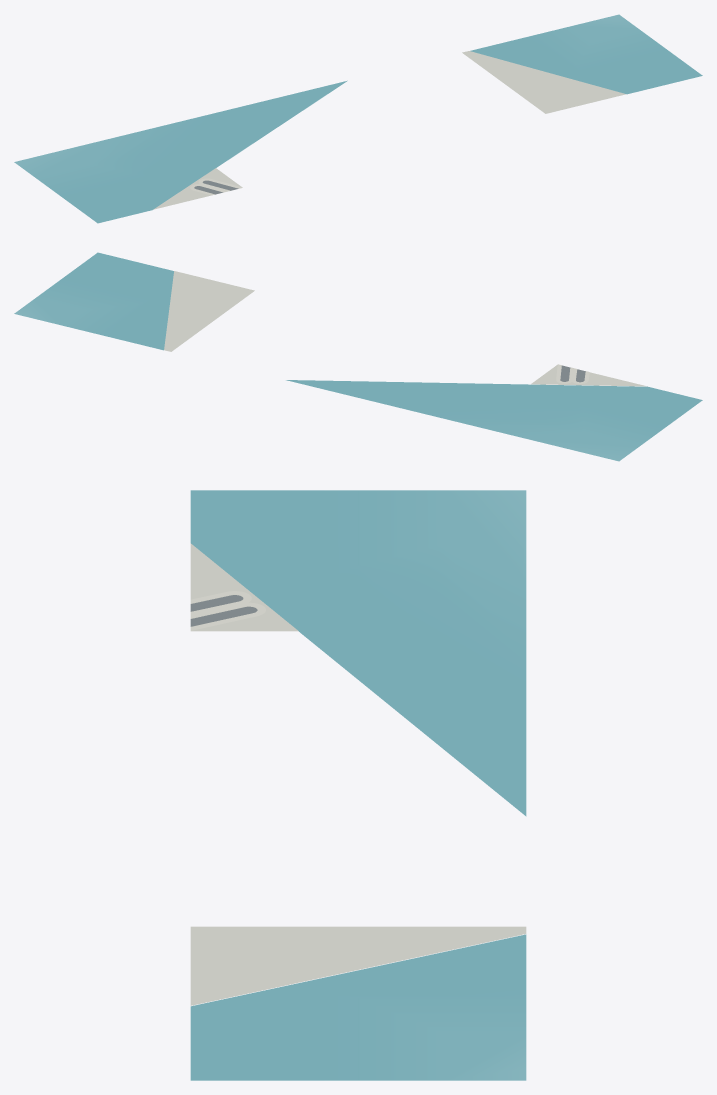
The picture shows the model from 3 angles, top to bottom: view 1: azimuth 30°, elevation 25°; view 2: azimuth 150°, elevation 25°; view 3: azimuth 270°, elevation 25°; orthographic projection. The views are drawn at different scales.
Visible parts, largest first — view 1: city; view 2: city; view 3: city.
Part boxes in pixels (x1=…): city: x1=14, y1=14, x2=702, y2=223; city: x1=14, y1=252, x2=702, y2=461; city: x1=190, y1=490, x2=526, y2=1080.
Size of the model in its own units: 500 by 0.4 by 120.
